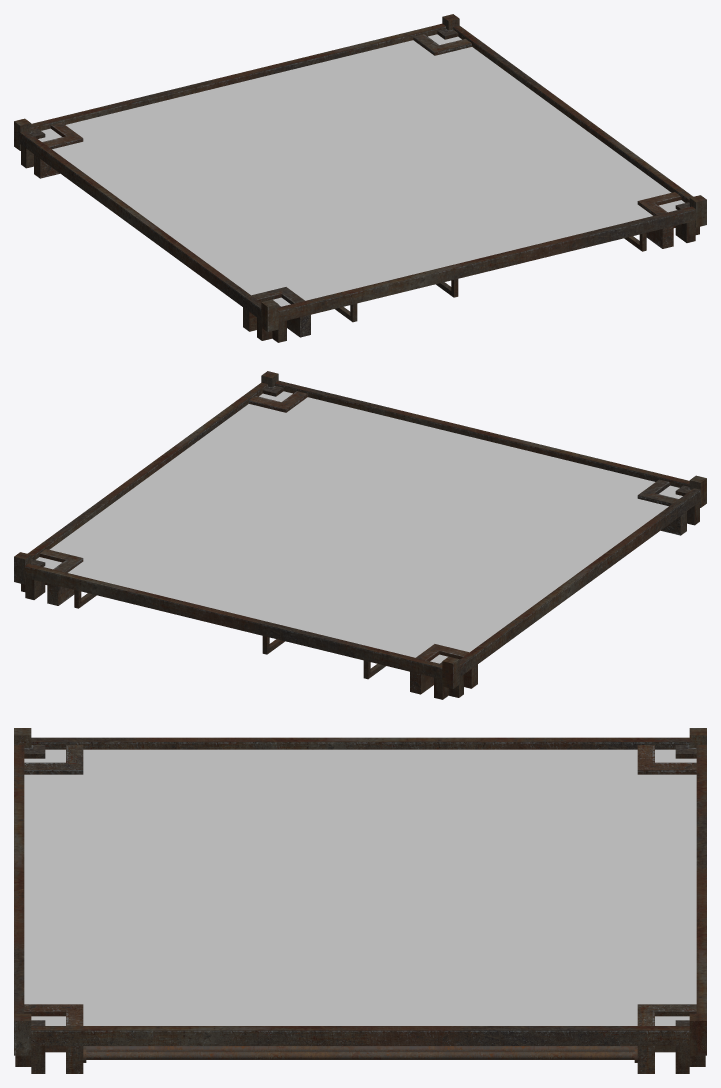
The model's file is SM_Platform_A.fbx.
3 renders of one model, top to bottom at view 1: azimuth 30°, elevation 25°; view 2: azimuth 150°, elevation 25°; view 3: azimuth 270°, elevation 25°, orthographic. The views are drawn at different scales.
Parts seen in each view (by area): view 1: SM_Platform_A; view 2: SM_Platform_A; view 3: SM_Platform_A.
Boxes of the visible parts, x1=… form: SM_Platform_A: x1=14, y1=14, x2=706, y2=342; SM_Platform_A: x1=14, y1=371, x2=706, y2=699; SM_Platform_A: x1=14, y1=728, x2=706, y2=1073.
Size of the model in its own units: 200 by 17 by 200.
